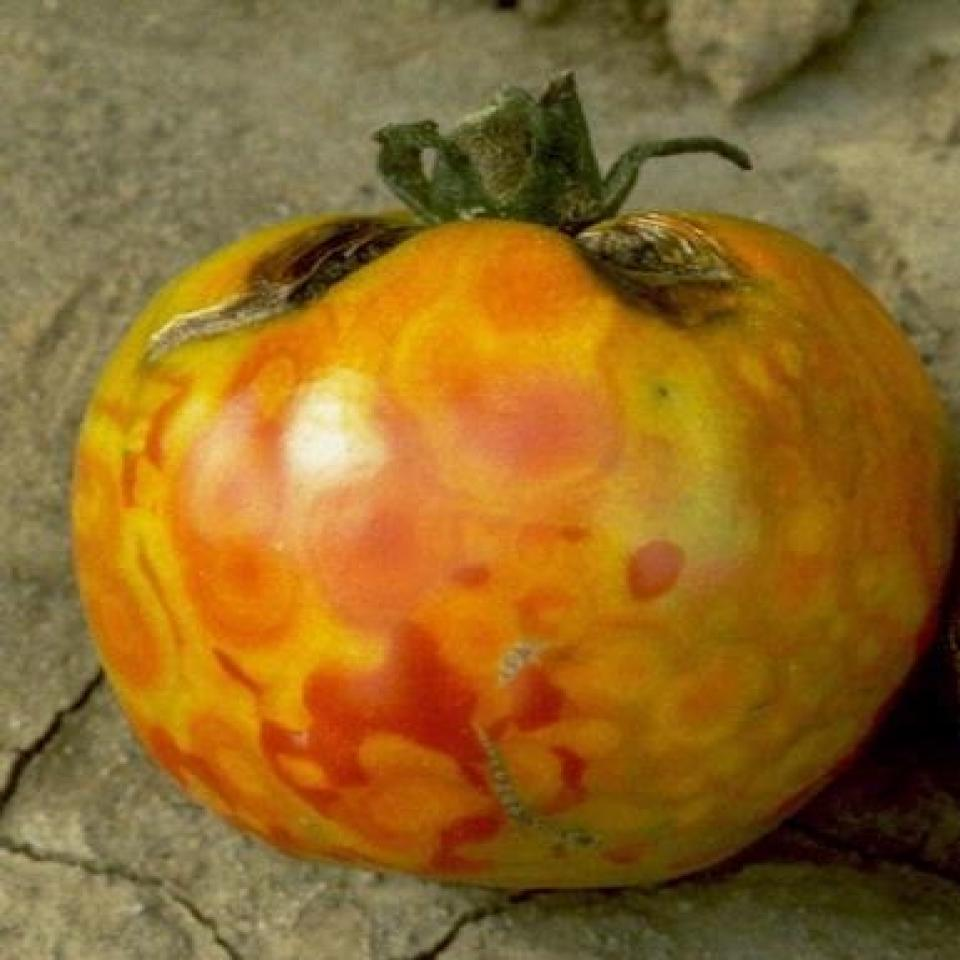Spotted wilt Virus: (62, 202, 955, 892)
